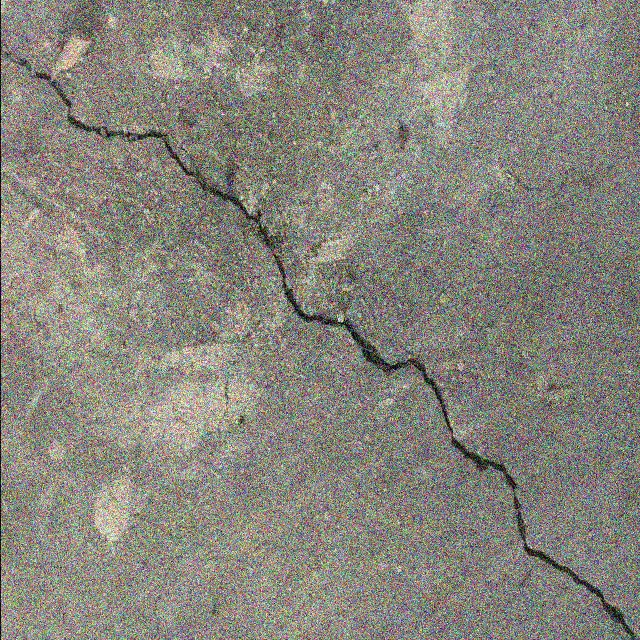SurfaceCrack: (1, 4, 640, 637)
